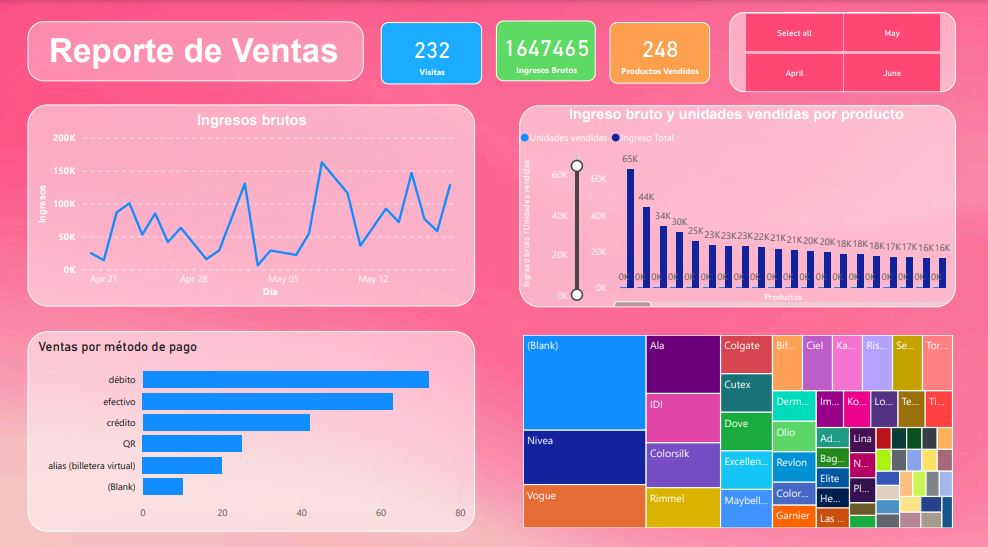

What the dashboard file says about the page in this screenshot:
{"tool":"powerbi","page":{"name":"Page 1","canvas":[1280,720],"ordinal":0},"visuals":[{"type":"lineChart","title":"Ingresos brutos ","fields":{"Y":["Sum(Sheet1.precio_final)"],"Category":["Sheet1.fecha_y_hora.Variation.Date Hierarchy.Year","Sheet1.fecha_y_hora.Variation.Date Hierarchy.Month","Sheet1.fecha_y_hora.Variation.Date Hierarchy.Day"]},"box":[38.3,145,575,260],"z":0},{"type":"barChart","title":"Ventas por método de pago","fields":{"Category":["Sheet1.metodo_pago"],"Y":["Count(Sheet1.n_cliente)"]},"box":[38.3,436.7,575,258.3],"z":1000},{"type":"clusteredColumnChart","title":"Ingreso bruto y unidades vendidas por producto","fields":{"Category":["Sheet1.nombre_producto"],"Y":["CountNonNull(Sheet1.precio_final)","Sum(Sheet1.precio_final)"]},"box":[670,145.7,561.4,260],"z":2000},{"type":"treemap","fields":{"Group":["Sheet1.marca"],"Values":["CountNonNull(Sheet1.precio_final)"]},"box":[670,436.7,561.7,258.3],"z":3000},{"type":"slicer","fields":{"Values":["Sheet1.fecha_y_hora.Variation.Date Hierarchy.Month"]},"box":[940,25.7,291.4,102.9],"z":4000},{"type":"card","fields":{"Values":["Sum(Sheet1.precio_final)"]},"box":[640,36.7,128.3,78.3],"z":5000},{"type":"card","fields":{"Values":["Count(Sheet1.n_cliente)"]},"box":[491.5,38.5,130,80],"z":6000},{"type":"card","fields":{"Values":["CountNonNull(Sheet1.precio_lista)"]},"box":[785.7,38.6,128.6,78.6],"z":7000},{"type":"textbox","box":[38.3,38.3,431.7,76.7],"z":8000}]}

Visuals, with their boxes in screenshot pixels (x1, y1, x2, y2), scaled from the page's 1280x720 canvas onto the 988x547 screenshot:
"Ingresos brutos " lineChart: (x1=30, y1=110, x2=473, y2=308)
"Ventas por método de pago" barChart: (x1=30, y1=332, x2=473, y2=528)
"Ingreso bruto y unidades vendidas por producto" clusteredColumnChart: (x1=517, y1=111, x2=950, y2=308)
treemap - Sheet1.marca x CountNonNull(Sheet1.precio_final): (x1=517, y1=332, x2=951, y2=528)
slicer - Sheet1.fecha_y_hora.Variation.Date Hierarchy.Month: (x1=726, y1=20, x2=950, y2=98)
card - Sum(Sheet1.precio_final): (x1=494, y1=28, x2=593, y2=87)
card - Count(Sheet1.n_cliente): (x1=379, y1=29, x2=480, y2=90)
card - CountNonNull(Sheet1.precio_lista): (x1=606, y1=29, x2=706, y2=89)
textbox: (x1=30, y1=29, x2=363, y2=87)
